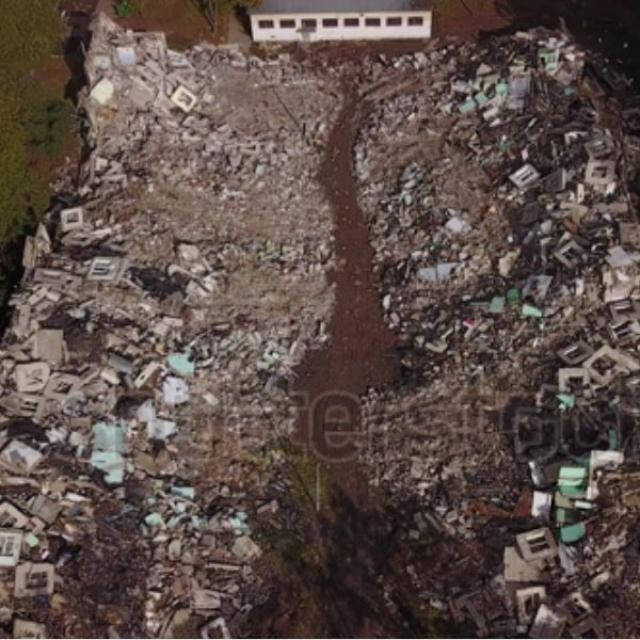collapsed_building: (20, 47, 639, 639)
